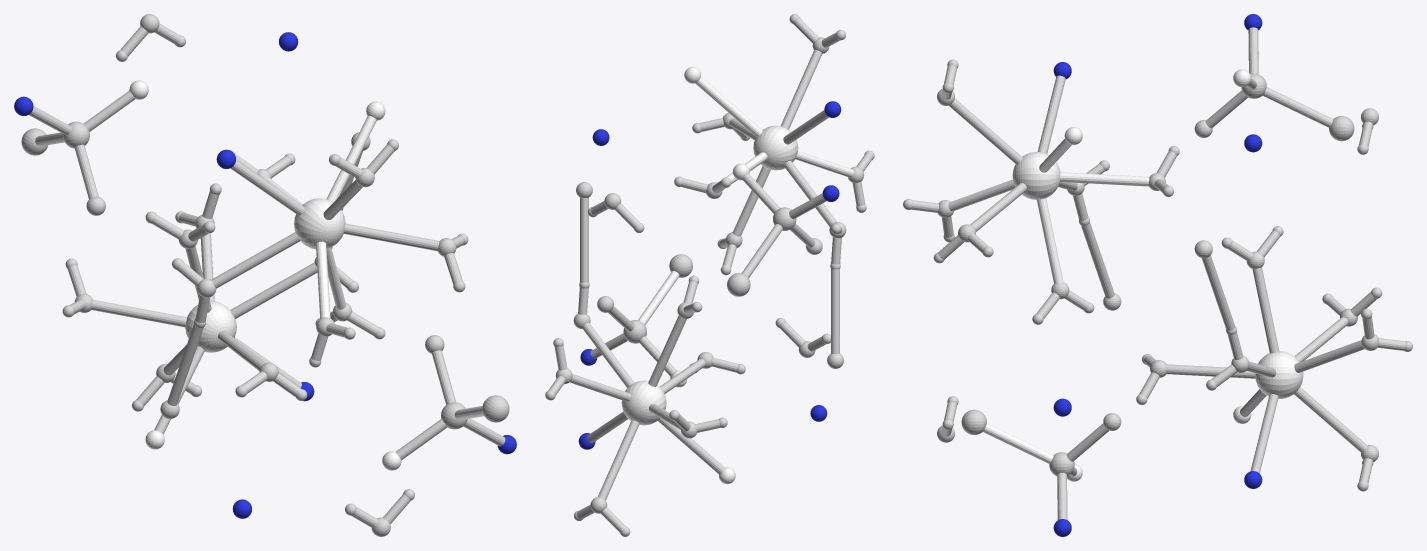
3 views of the same model, side by side, from view 1: azimuth 30°, elevation 25°; view 2: azimuth 150°, elevation 25°; view 3: azimuth 270°, elevation 25° (orthographic). The views are drawn at different scales.
Parts seen in each view (by area): view 1: atom0_IndexedFaceSet, atom0_IndexedFaceSet.001, Shape_Cylinder.005, Shape_Cylinder.010, Shape_Cylinder, Shape_Cylinder.015, Shape_Cylinder.007, Shape_Cylinder.001, Shape_Cylinder.024, Shape_Cylinder.006, Shape_Cylinder.021, Shape_Cylinder.020 (+5 smaller); view 2: atom0_IndexedFaceSet, atom0_IndexedFaceSet.001, Shape_Cylinder.004, Shape_Cylinder.011, Shape_Cylinder.001, Shape_Cylinder.024, Shape_Cylinder.025, Shape_Cylinder.010, Shape_Cylinder.013, Shape_Cylinder.014, Shape_Cylinder.005, Shape_Cylinder.002 (+10 smaller); view 3: atom0_IndexedFaceSet, atom0_IndexedFaceSet.001, Shape_Cylinder.003, Shape_Cylinder.004, Shape_Cylinder.011, Shape_Cylinder.013, Shape_Cylinder.002, Shape_Cylinder.007, Shape_Cylinder.008, Shape_Cylinder.024, Shape_Cylinder.025, Shape_Cylinder.017 (+6 smaller).
Part boxes in pixels (box(x1,y1,x2,y2)): atom0_IndexedFaceSet: box(294, 198, 345, 249); atom0_IndexedFaceSet.001: box(185, 301, 236, 352); Shape_Cylinder.005: box(211, 232, 300, 288); Shape_Cylinder.010: box(230, 262, 317, 318); Shape_Cylinder: box(343, 223, 439, 251); Shape_Cylinder.015: box(91, 299, 186, 327); Shape_Cylinder.007: box(230, 160, 304, 215); Shape_Cylinder.001: box(326, 115, 376, 202); Shape_Cylinder.024: box(167, 324, 203, 405); Shape_Cylinder.006: box(316, 241, 330, 318); Shape_Cylinder.021: box(83, 90, 135, 131); Shape_Cylinder.020: box(396, 419, 447, 460); atom0_IndexedFaceSet: box(753, 125, 798, 170); atom0_IndexedFaceSet.001: box(621, 380, 666, 425); Shape_Cylinder.004: box(781, 50, 822, 129); Shape_Cylinder.011: box(598, 420, 639, 500); Shape_Cylinder.001: box(695, 77, 762, 137); Shape_Cylinder.024: box(831, 269, 839, 353); Shape_Cylinder.025: box(580, 197, 588, 282); Shape_Cylinder.010: box(582, 322, 634, 387); Shape_Cylinder.013: box(648, 315, 686, 386); Shape_Cylinder.014: box(658, 418, 724, 474); Shape_Cylinder.005: box(784, 160, 836, 226); Shape_Cylinder.002: box(732, 166, 770, 236); atom0_IndexedFaceSet: box(1012, 152, 1060, 199); atom0_IndexedFaceSet.001: box(1255, 351, 1303, 398); Shape_Cylinder.003: box(1060, 172, 1149, 186); Shape_Cylinder.004: box(949, 98, 1022, 164); Shape_Cylinder.011: box(1294, 387, 1367, 452); Shape_Cylinder.013: box(1252, 267, 1279, 353); Shape_Cylinder.002: box(1037, 198, 1063, 283); Shape_Cylinder.007: box(1037, 75, 1065, 153); Shape_Cylinder.008: box(1250, 394, 1278, 473); Shape_Cylinder.024: box(1081, 222, 1114, 298); Shape_Cylinder.025: box(1201, 255, 1235, 330); Shape_Cylinder.017: box(1262, 87, 1333, 127).
Bounding box in the file's own units: 8.75 × 9.01 × 10.43.
